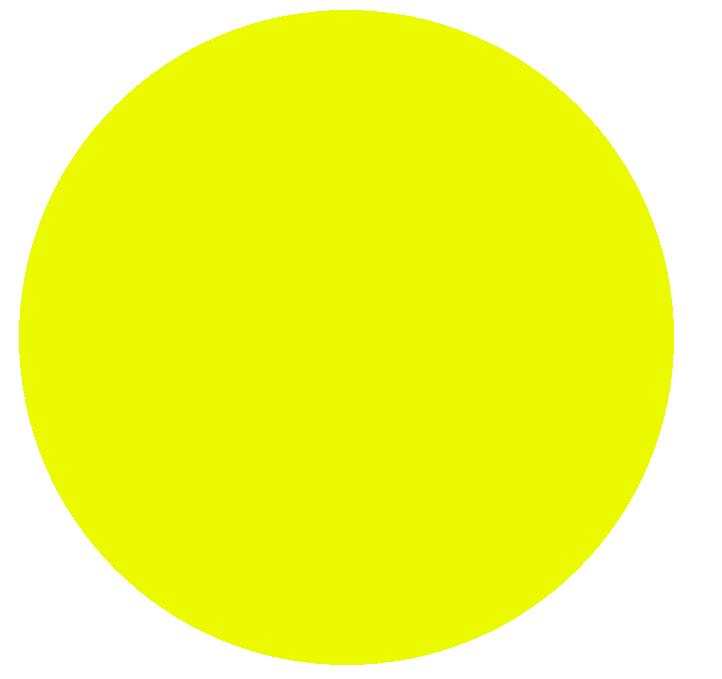yellow_circle: (17, 6, 674, 665)
